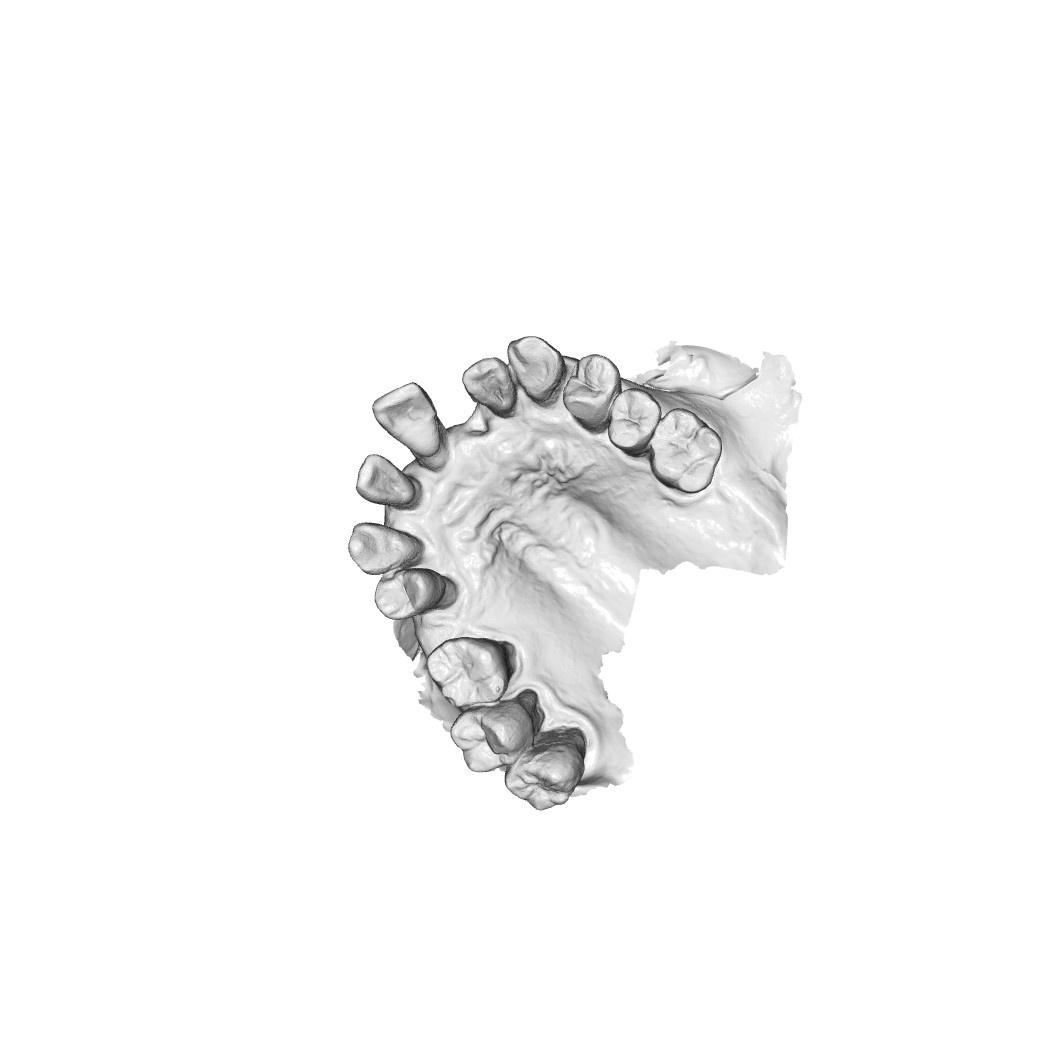canine: (506, 334, 561, 404), (347, 521, 416, 574)
incisor: (371, 379, 445, 457), (355, 453, 415, 512), (464, 355, 518, 413)
molar: (646, 408, 719, 495), (430, 636, 514, 710), (503, 734, 579, 811), (452, 705, 527, 777)
premolar: (604, 385, 661, 454), (567, 356, 620, 430), (366, 569, 441, 620)
